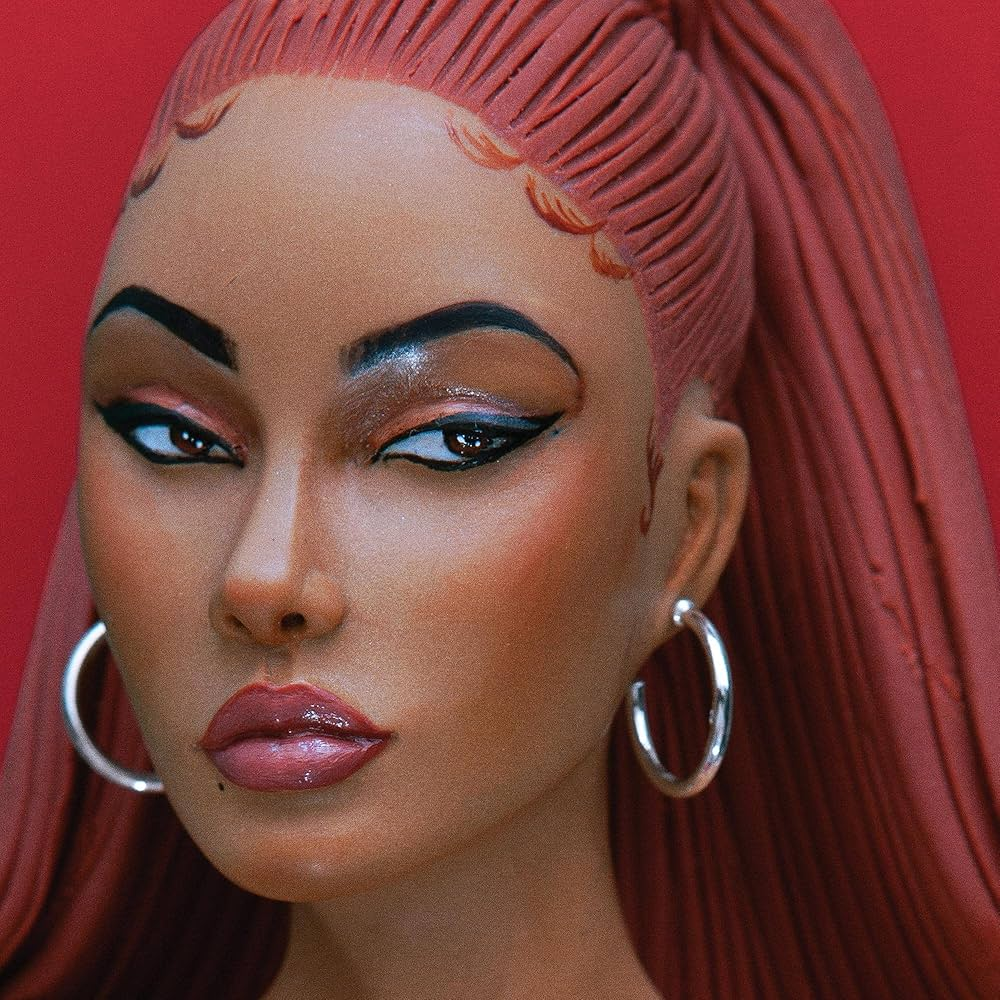jorja smith_be right back: (2, 0, 999, 1000)
